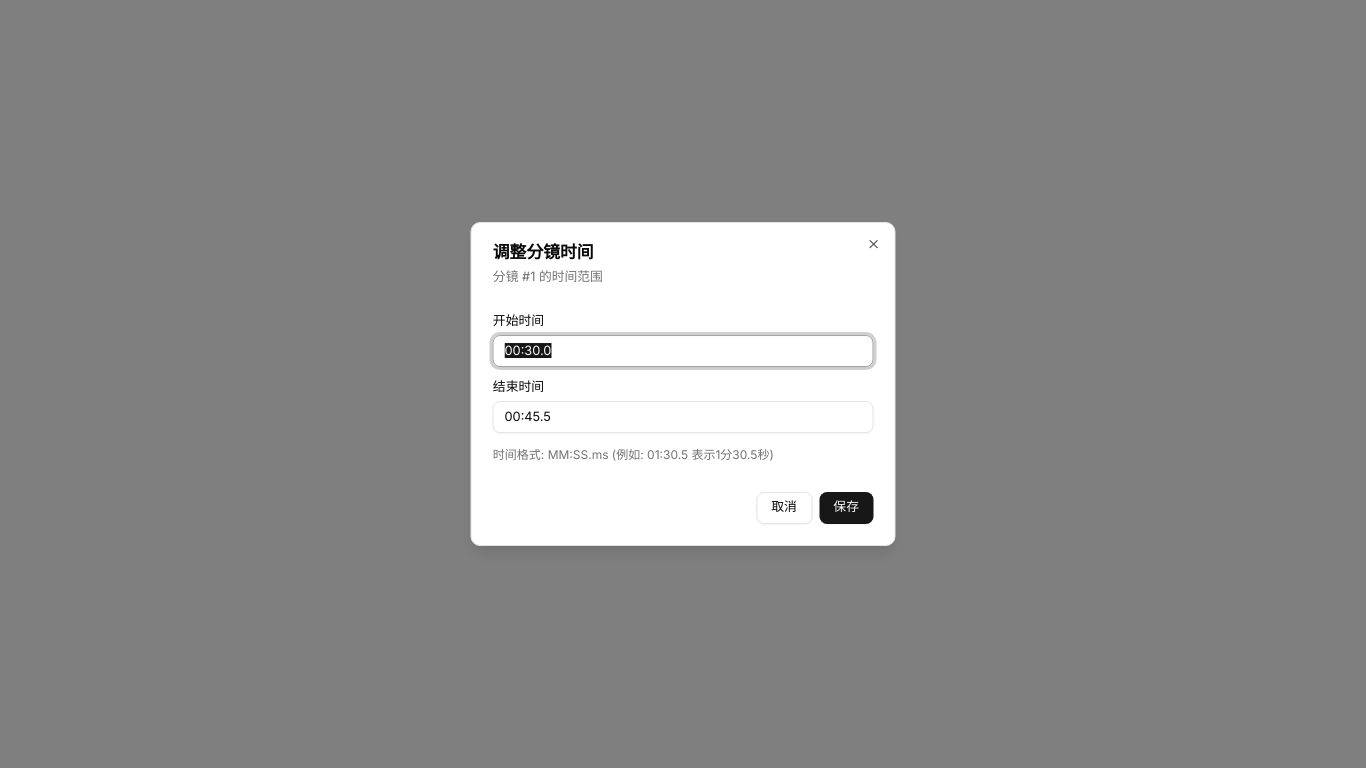
Test case: TimeAdjustDialog › should show validation error when end time is less than start time
Replace the text in the field labelled "开始时间" with "01:00.0". click: (683, 351)
box: [493,335,873,367]
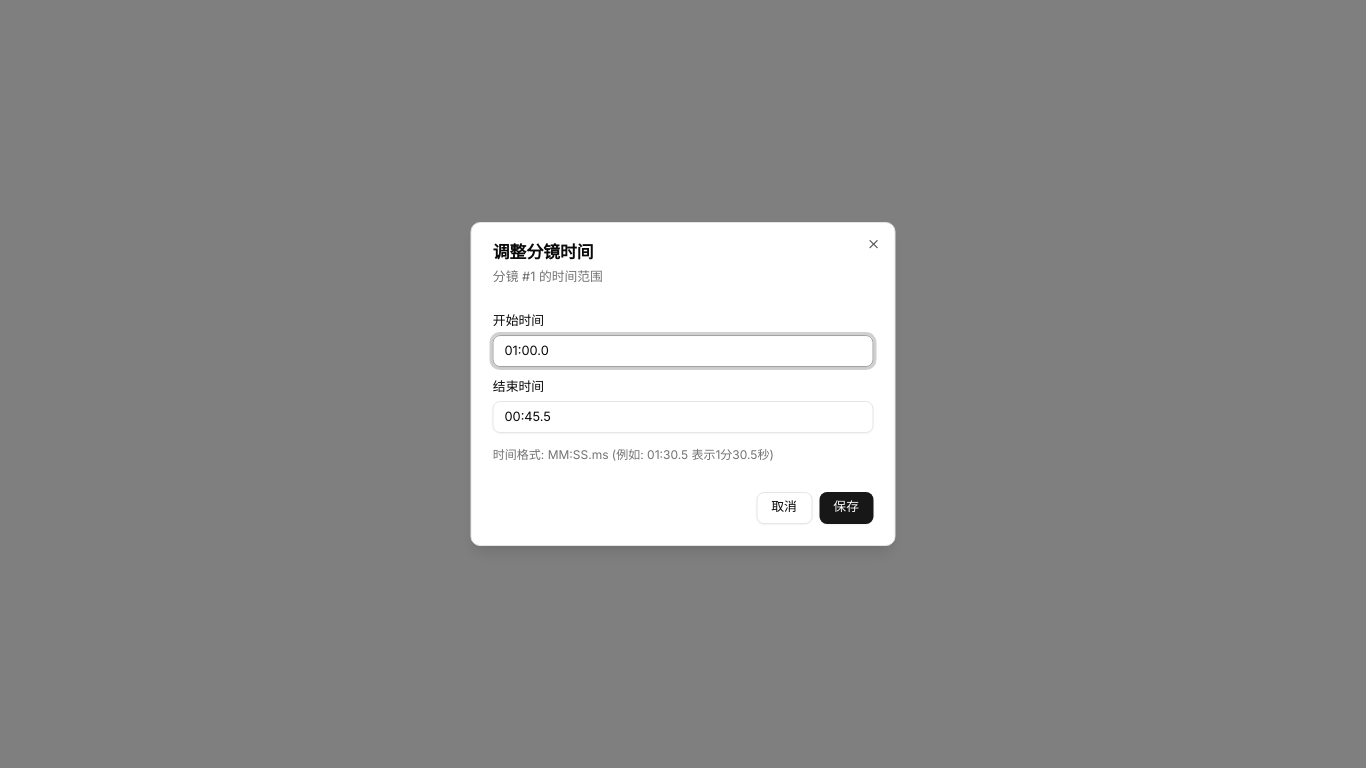
Replace the text in the field labelled "结束时间" with "00:30.0". click: (683, 417)
box: [493,401,873,433]
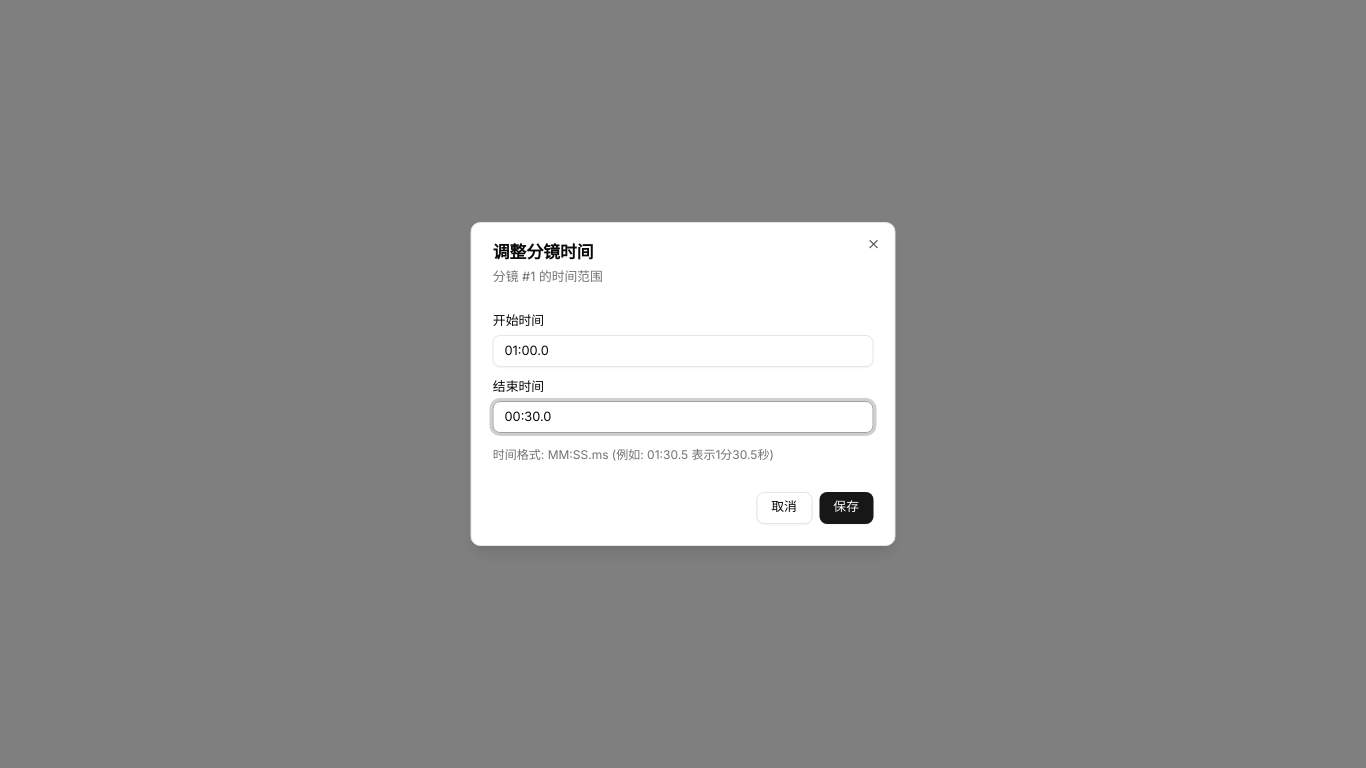
Click the button "保存". click: (846, 508)
box: [819,492,873,524]
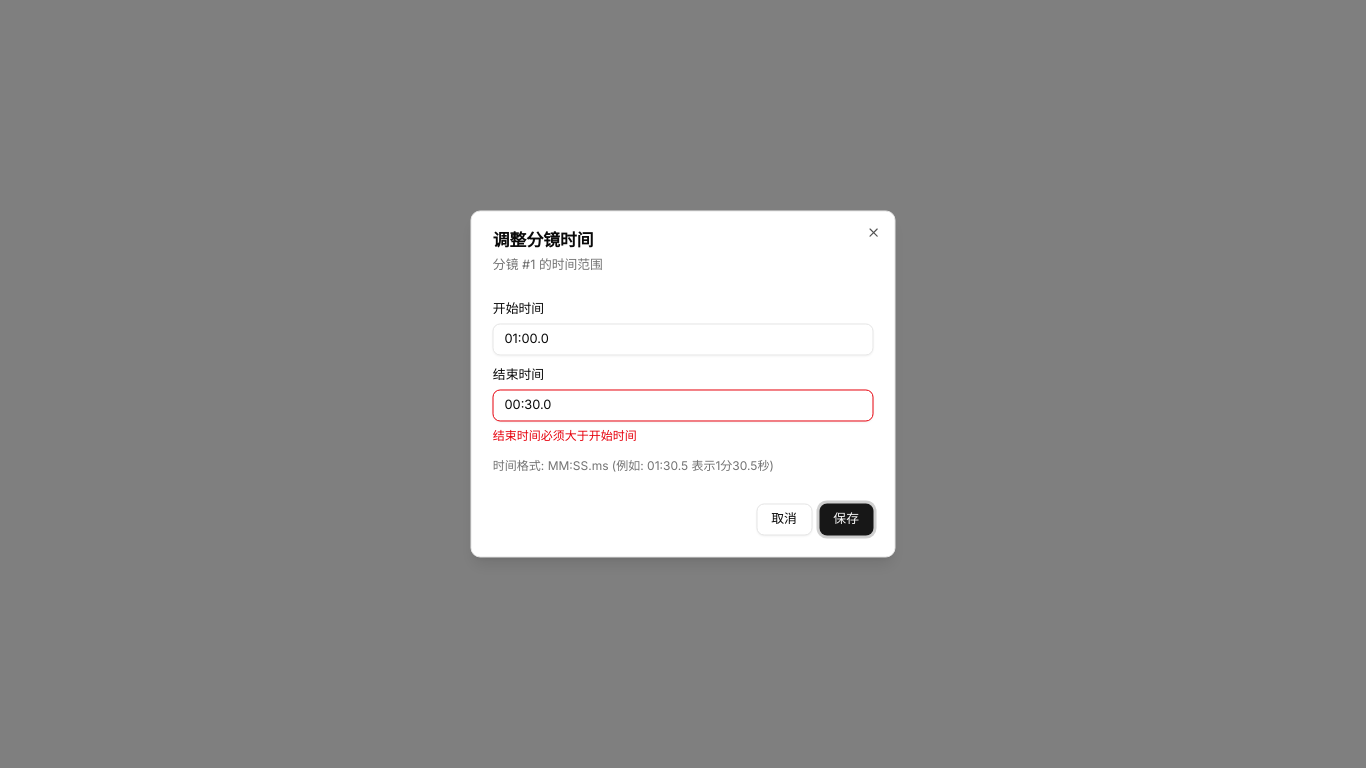
Check: the text "结束时间必须大于开始时间" is shown, box [493,428,637,444]
